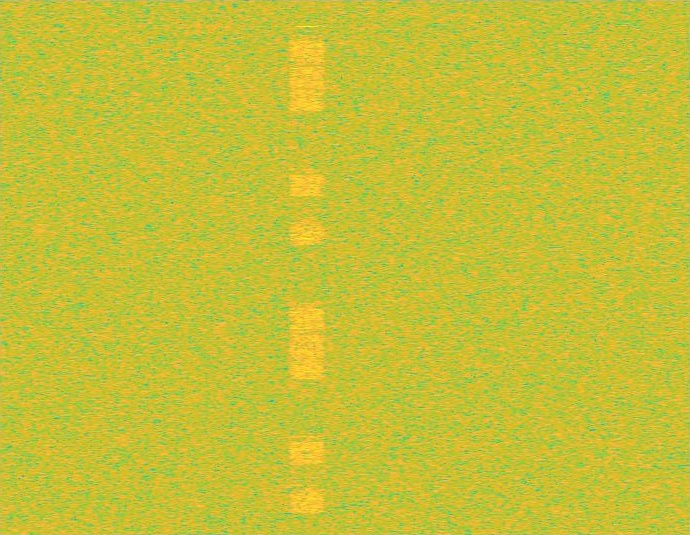LTE: (290, 0, 324, 534)
Radar: (300, 0, 314, 534)
